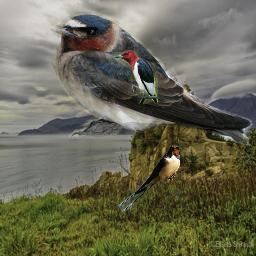Swallow: (48, 11, 254, 146), (118, 145, 180, 211)
Woodpecker: (114, 50, 158, 104)
